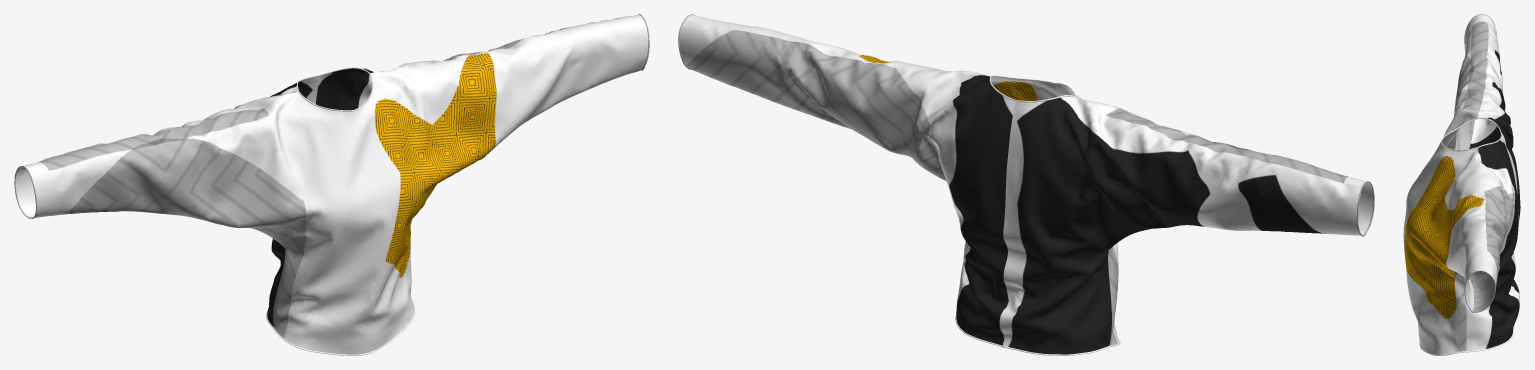
File: 3Angle.fbx
3 renders of one model, left to right at view 1: azimuth 30°, elevation 25°; view 2: azimuth 150°, elevation 25°; view 3: azimuth 270°, elevation 25°, orthographic. The views are drawn at different scales.
Visible parts, largest first — view 1: 3Angle; view 2: 3Angle; view 3: 3Angle.
Part boxes in pixels (bbox=[...]): 3Angle: bbox=[14, 14, 649, 355]; 3Angle: bbox=[678, 14, 1374, 355]; 3Angle: bbox=[1403, 14, 1520, 355].
Size of the model in its own units: 133 by 51.12 by 25.35.
